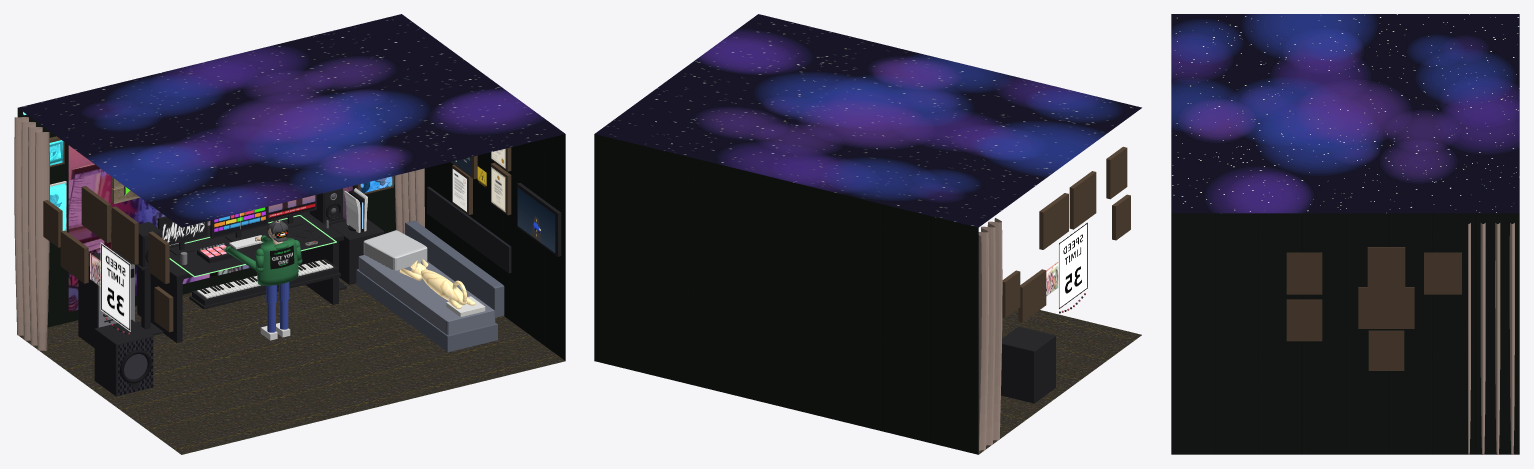
The model's file is studio14.glb.
3 renders of one model, left to right at view 1: azimuth 30°, elevation 25°; view 2: azimuth 150°, elevation 25°; view 3: azimuth 270°, elevation 25°, orthographic. The views are drawn at different scales.
Parts seen in each view (by area): view 1: Ceiling, Floor, RightWall, CurtainLeft, Tapestry, BackWall, FutonMattress, LittleLumar_Body, FutonBack, FutonBase, AcousticFoam, DeskMat (+25 smaller); view 2: BackWall, Ceiling, Floor, CurtainLeft, SubwooferL, SpeedLimit35, ArtCollage_frame, ArtSneaker_frame, ArtLuMar_frame, ArtTarget_frame, ArtAnime_frame, ArtCamila_frame; view 3: RightWall, Ceiling, CurtainRight, ShadowBox_frame, Cert2_frame, Cert1_frame, Cert3_frame, Cert5_frame, Cert4_frame.
Boxes of the visible parts, box(x1,y1,x2,y2) form: Ceiling: box(18, 14, 564, 227); Floor: box(18, 277, 565, 454); RightWall: box(424, 134, 565, 360); CurtainLeft: box(14, 117, 49, 350); Tapestry: box(68, 145, 352, 311); BackWall: box(17, 108, 395, 327); FutonMattress: box(358, 255, 495, 335); LittleLumar_Body: box(223, 235, 302, 340); FutonBack: box(405, 220, 504, 317); FutonBase: box(356, 269, 497, 352); AcousticFoam: box(427, 186, 511, 273); DeskMat: box(169, 216, 334, 275); BackWall: box(594, 134, 978, 454); Ceiling: box(595, 14, 1141, 227); Floor: box(978, 309, 1141, 454); CurtainLeft: box(978, 218, 1002, 454); SubwooferL: box(1001, 326, 1055, 403); SpeedLimit35: box(1058, 221, 1088, 310); ArtCollage_frame: box(1069, 171, 1096, 229); ArtSneaker_frame: box(1039, 193, 1068, 249); ArtLuMar_frame: box(1018, 269, 1046, 322); ArtTarget_frame: box(1106, 146, 1127, 199); ArtAnime_frame: box(1002, 270, 1020, 317); ArtCamila_frame: box(1112, 194, 1130, 240); RightWall: box(1171, 213, 1519, 454); Ceiling: box(1171, 14, 1519, 213); CurtainRight: box(1468, 223, 1514, 454); ShadowBox_frame: box(1358, 287, 1414, 328); Cert2_frame: box(1424, 252, 1461, 294); Cert1_frame: box(1367, 247, 1405, 287); Cert3_frame: box(1286, 252, 1322, 294); Cert5_frame: box(1286, 299, 1322, 341); Cert4_frame: box(1368, 330, 1404, 370).
Bounding box in the file's own units: 4.68 × 2.6 × 3.4.
Materials: 79 (40 with a texture image).
